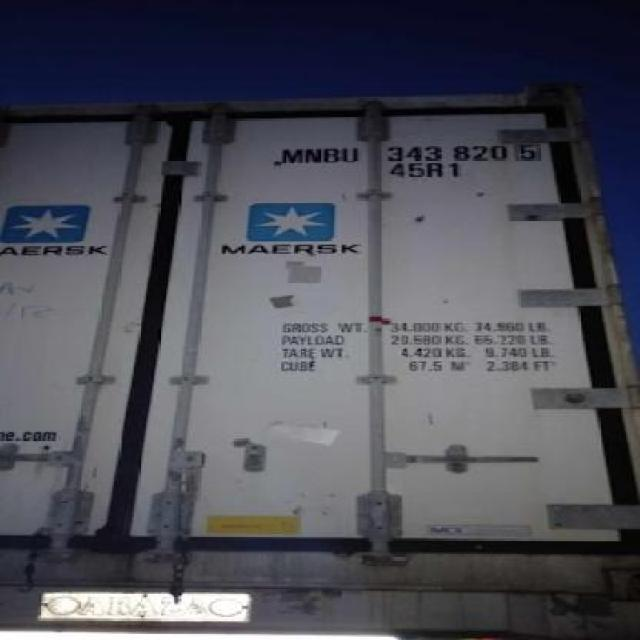ISO: (390, 161, 474, 185)
container_number: (273, 138, 545, 168)
